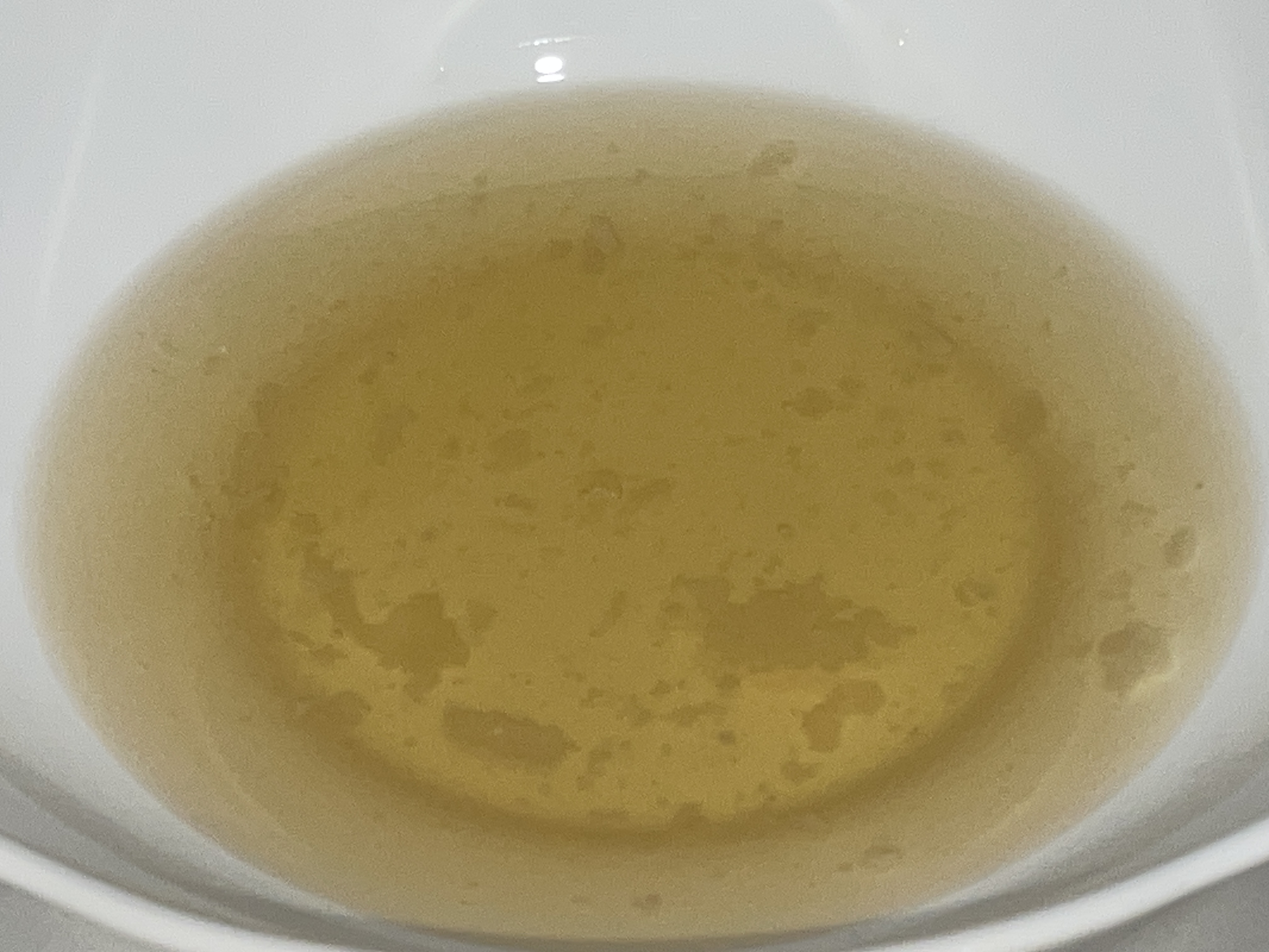reusable: (41, 88, 1269, 952)
